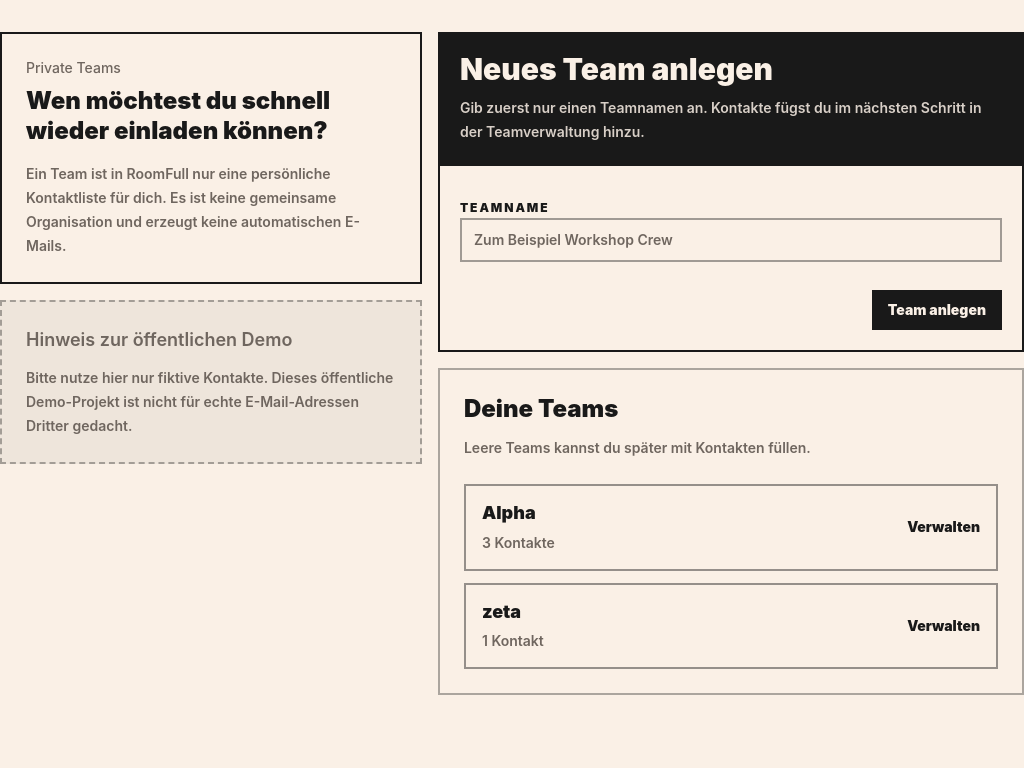
Test: TeamsPageClient › adds newly created team to list
The image size is (1024, 768).
Expected: the heading "Alpha" is shown, x1=482 y1=502 x2=536 y2=523
Step 1. Type "Beta Crew" into the field labelled "Teamname" → (731, 240), box x1=460 y1=218 x2=1002 y2=262
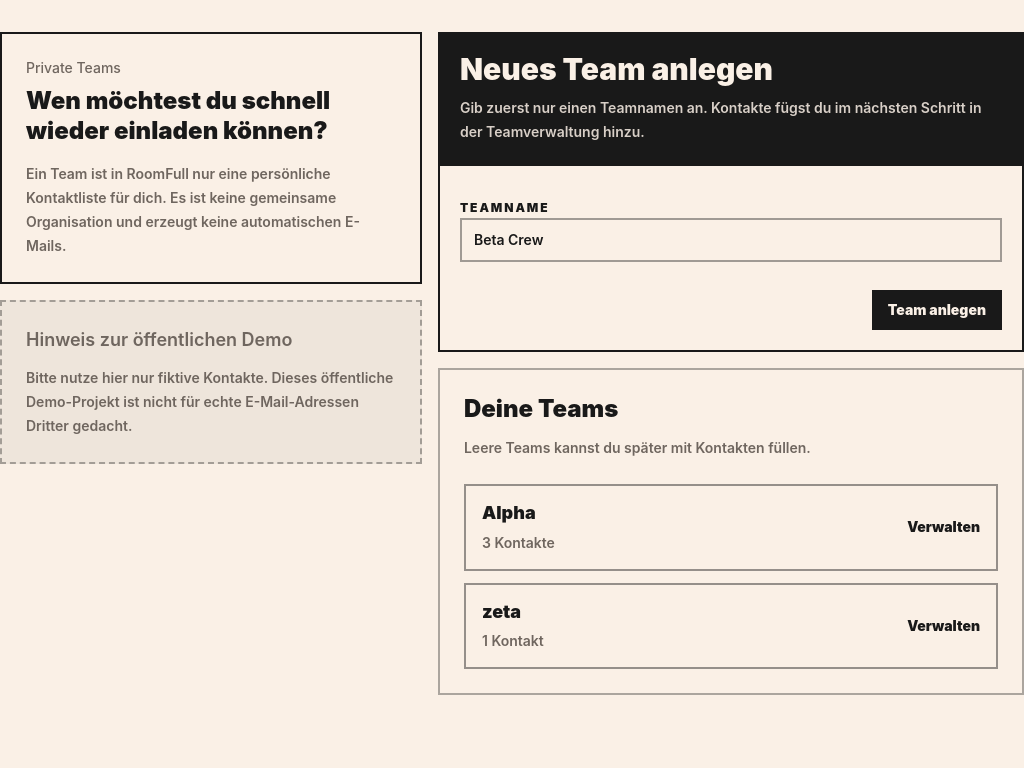
Step 2. Click the button "Team anlegen" → click(937, 310), box x1=872 y1=290 x2=1002 y2=330
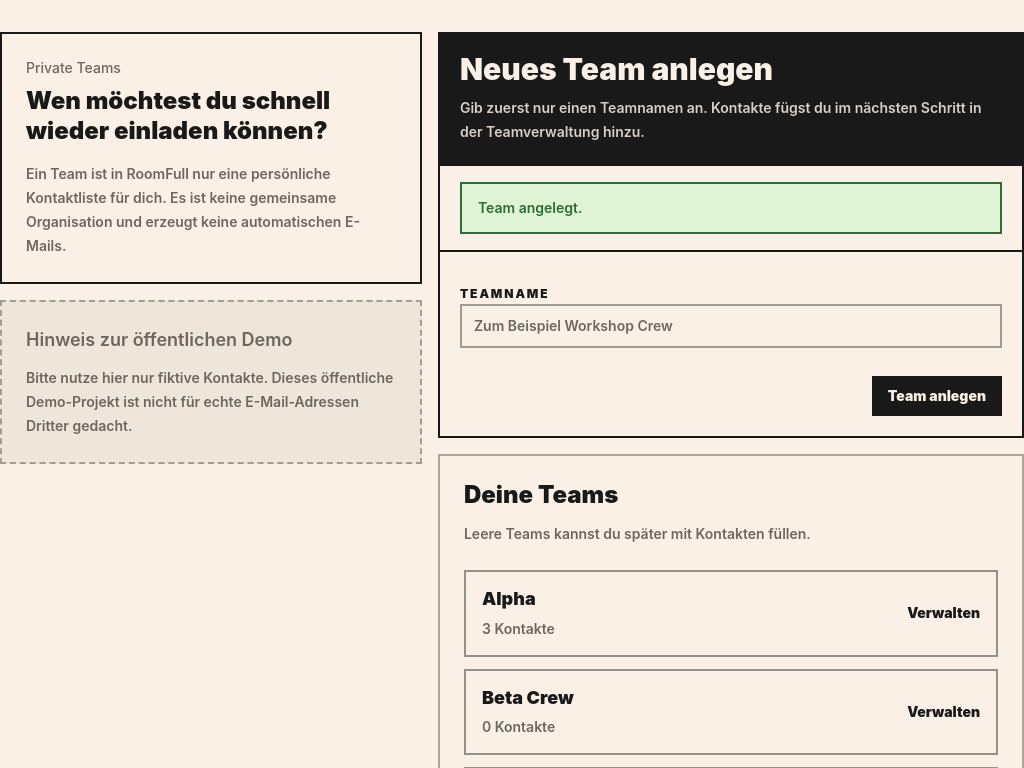
Expected: the text "Team angelegt." is shown, x1=478 y1=199 x2=582 y2=216
Expected: the heading "Beta Crew" is shown, x1=482 y1=686 x2=574 y2=709
